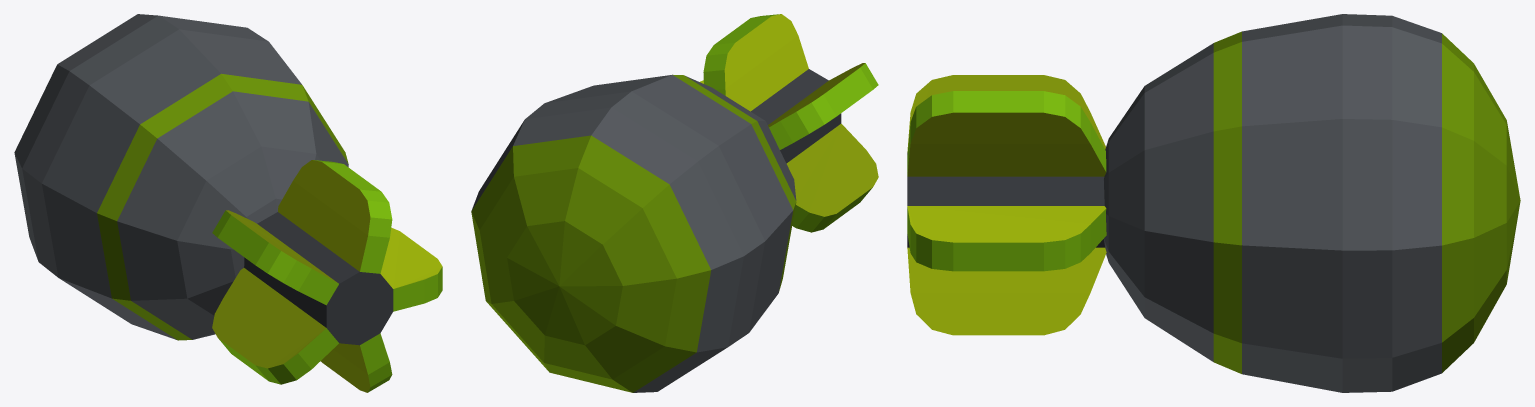
Rendered from GroundZeroExplosion.fbx.
The picture shows the model from 3 angles, left to right: view 1: azimuth 30°, elevation 25°; view 2: azimuth 150°, elevation 25°; view 3: azimuth 270°, elevation 25°; orthographic projection. The views are drawn at different scales.
Parts seen in each view (by area): view 1: GroundZero; view 2: GroundZero; view 3: GroundZero.
Part boxes in pixels (x1,y1,x2,y2): GroundZero: (14,14,442,392); GroundZero: (471,14,878,392); GroundZero: (907,14,1520,392).
Size of the model in its own units: 27.25 by 26.84 by 43.93.
